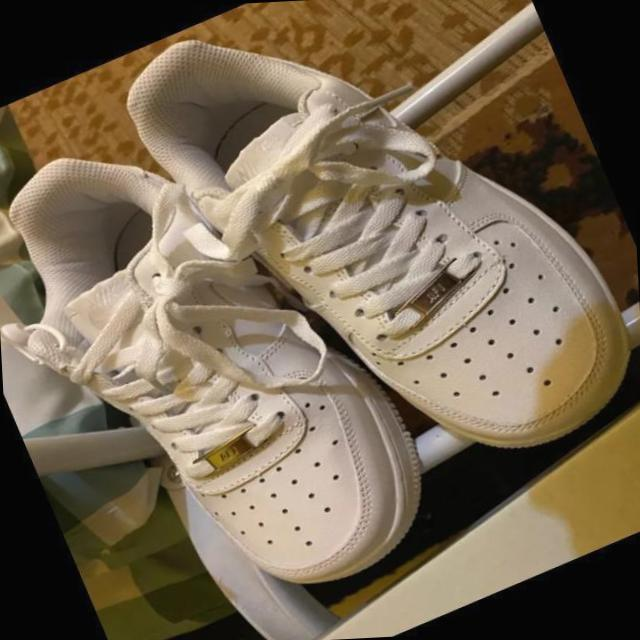nike_original_airforce: (92, 0, 640, 565), (0, 63, 467, 640)
